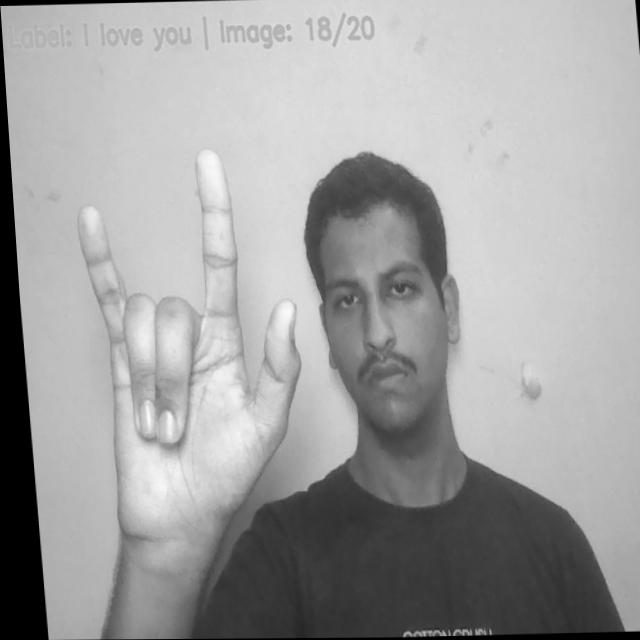I love you: (76, 146, 294, 580)
